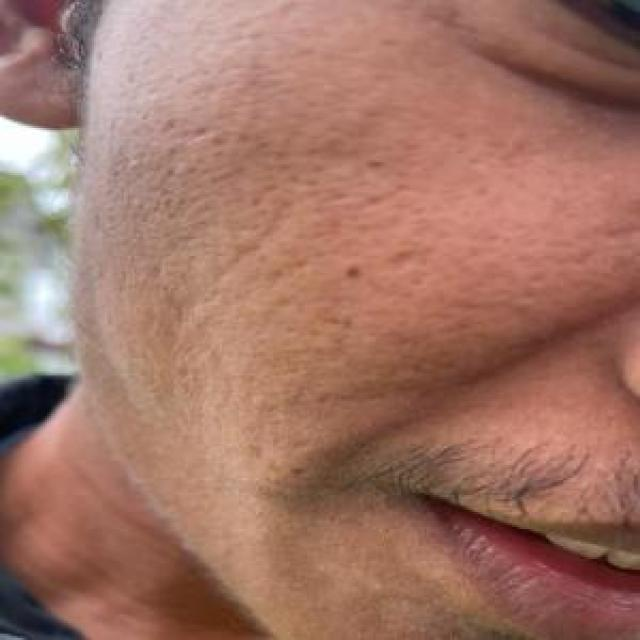dry: (119, 45, 632, 466)
